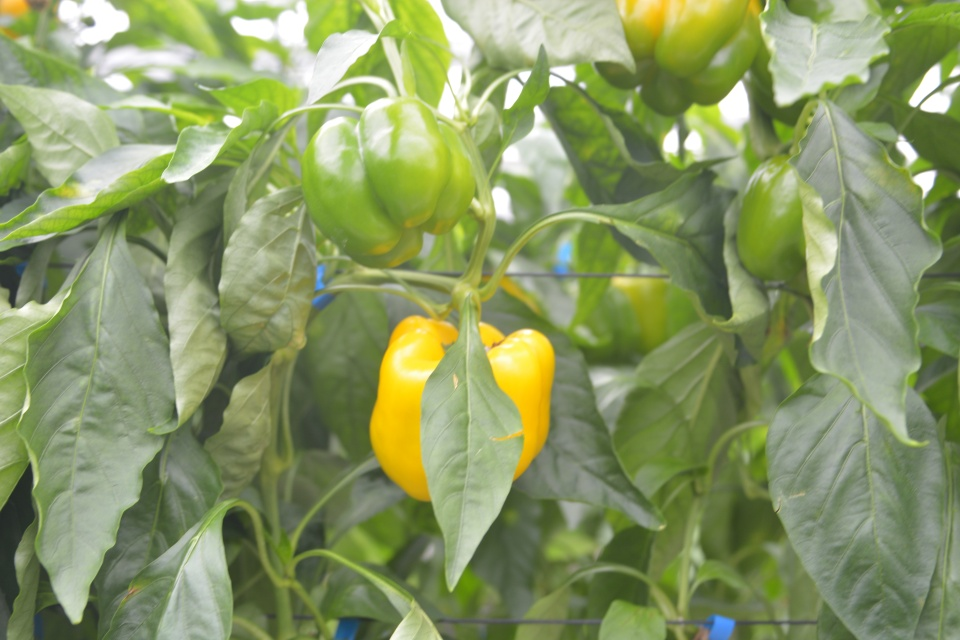fruit: (366, 313, 560, 507), (298, 92, 478, 270), (585, 0, 764, 119), (737, 0, 884, 130), (735, 151, 817, 299)
